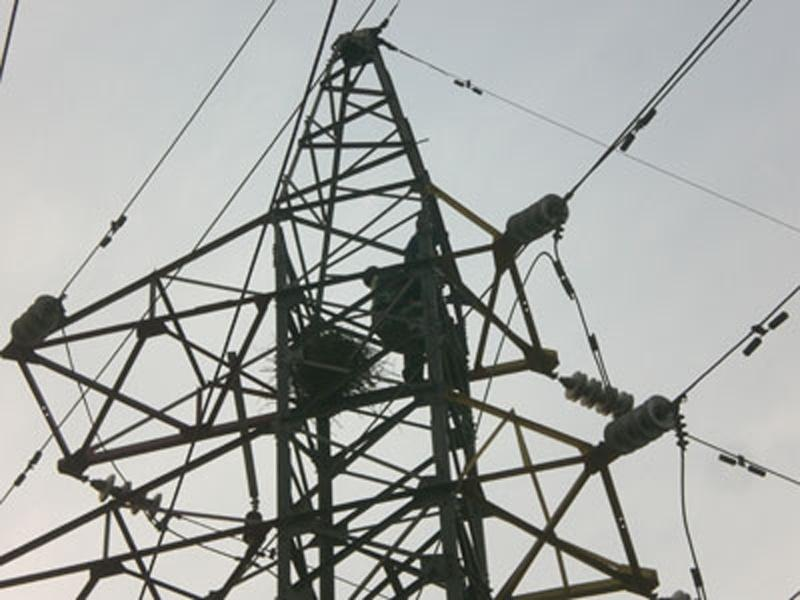power_tower: (43, 42, 691, 583)
